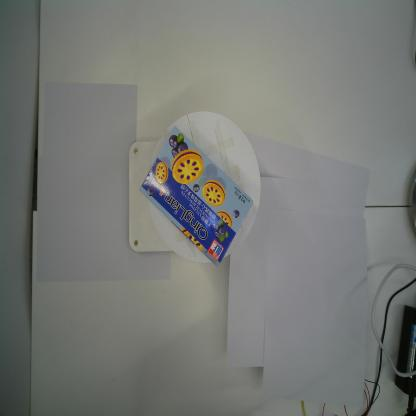Dessert: (138, 126, 254, 268)
